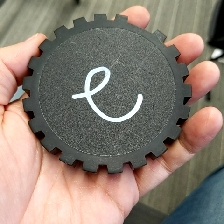gear: (21, 12, 193, 176)
missing: (114, 13, 168, 44)
